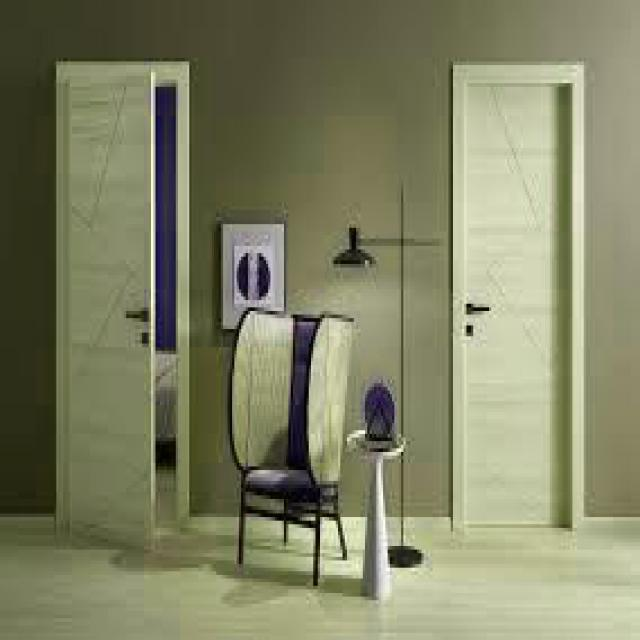door: (443, 37, 594, 583), (51, 41, 211, 543)
